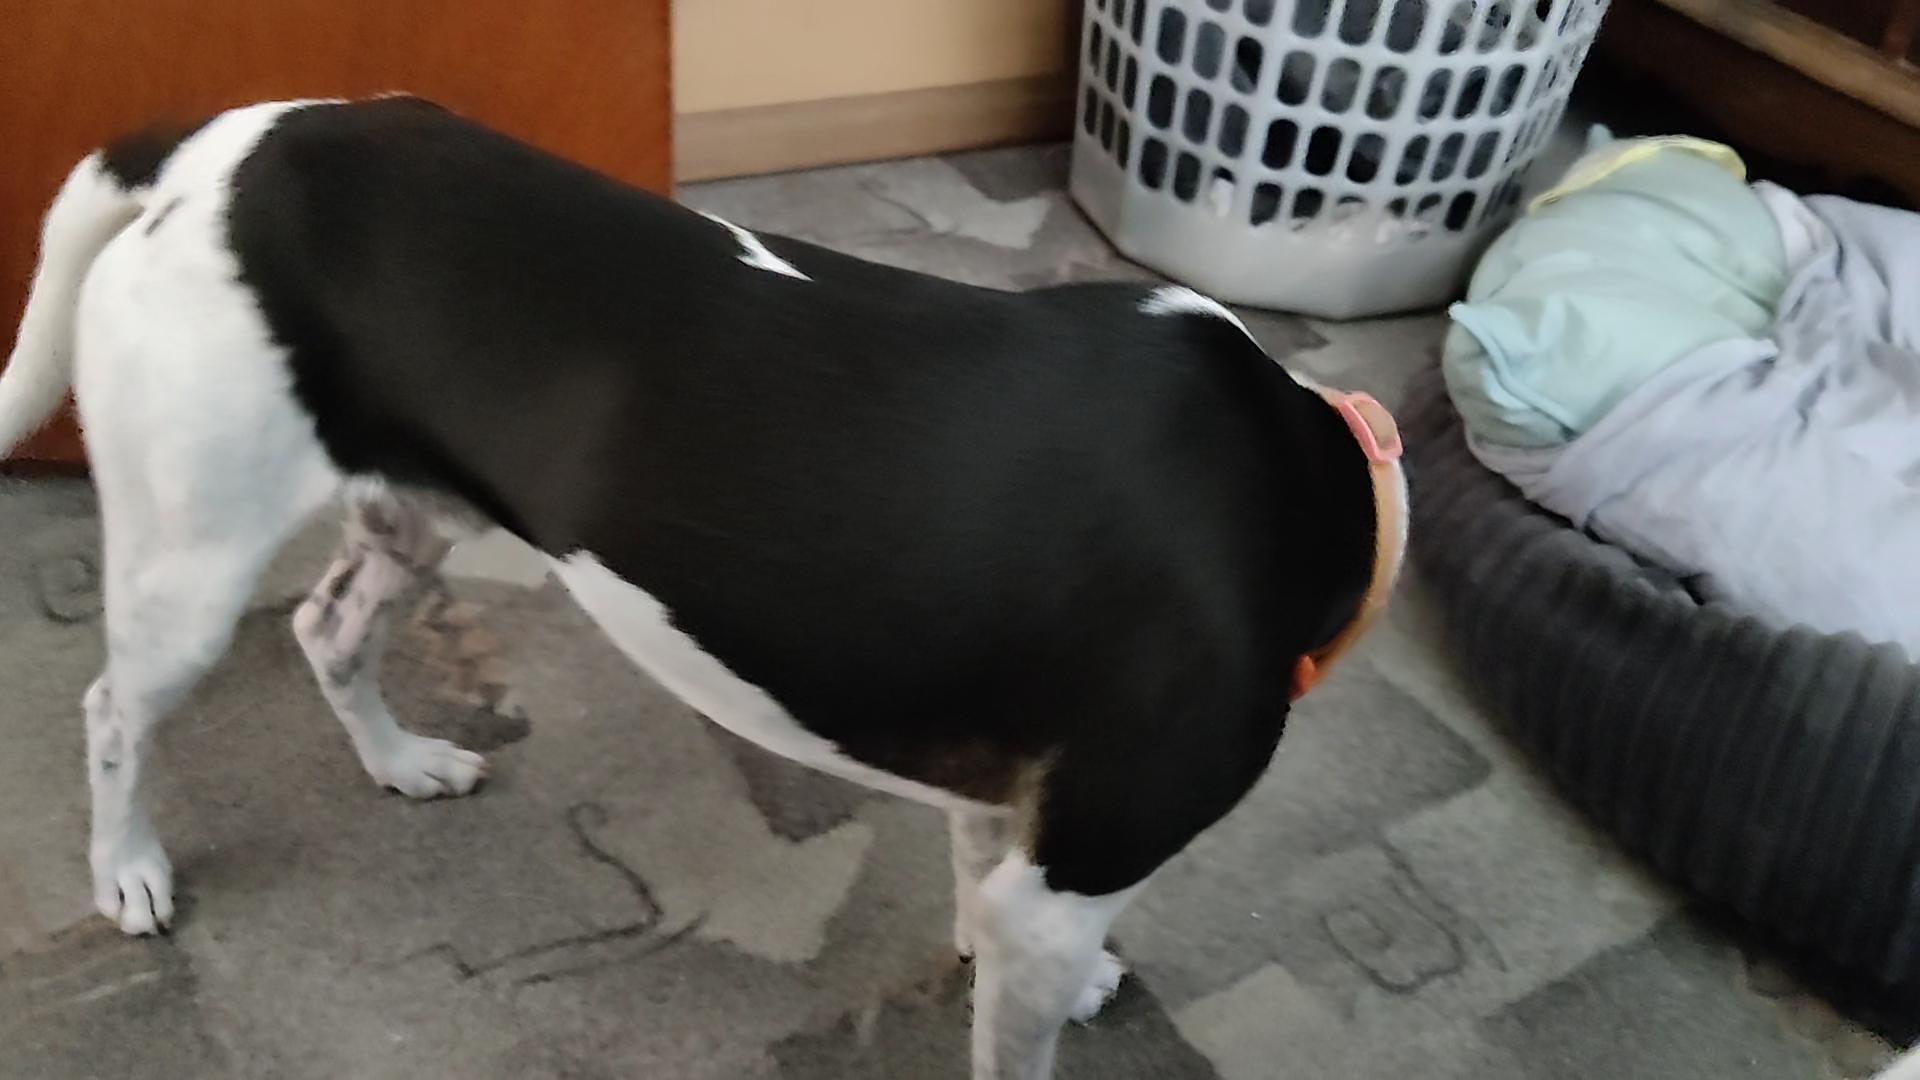Dog: (0, 70, 1416, 1079)
